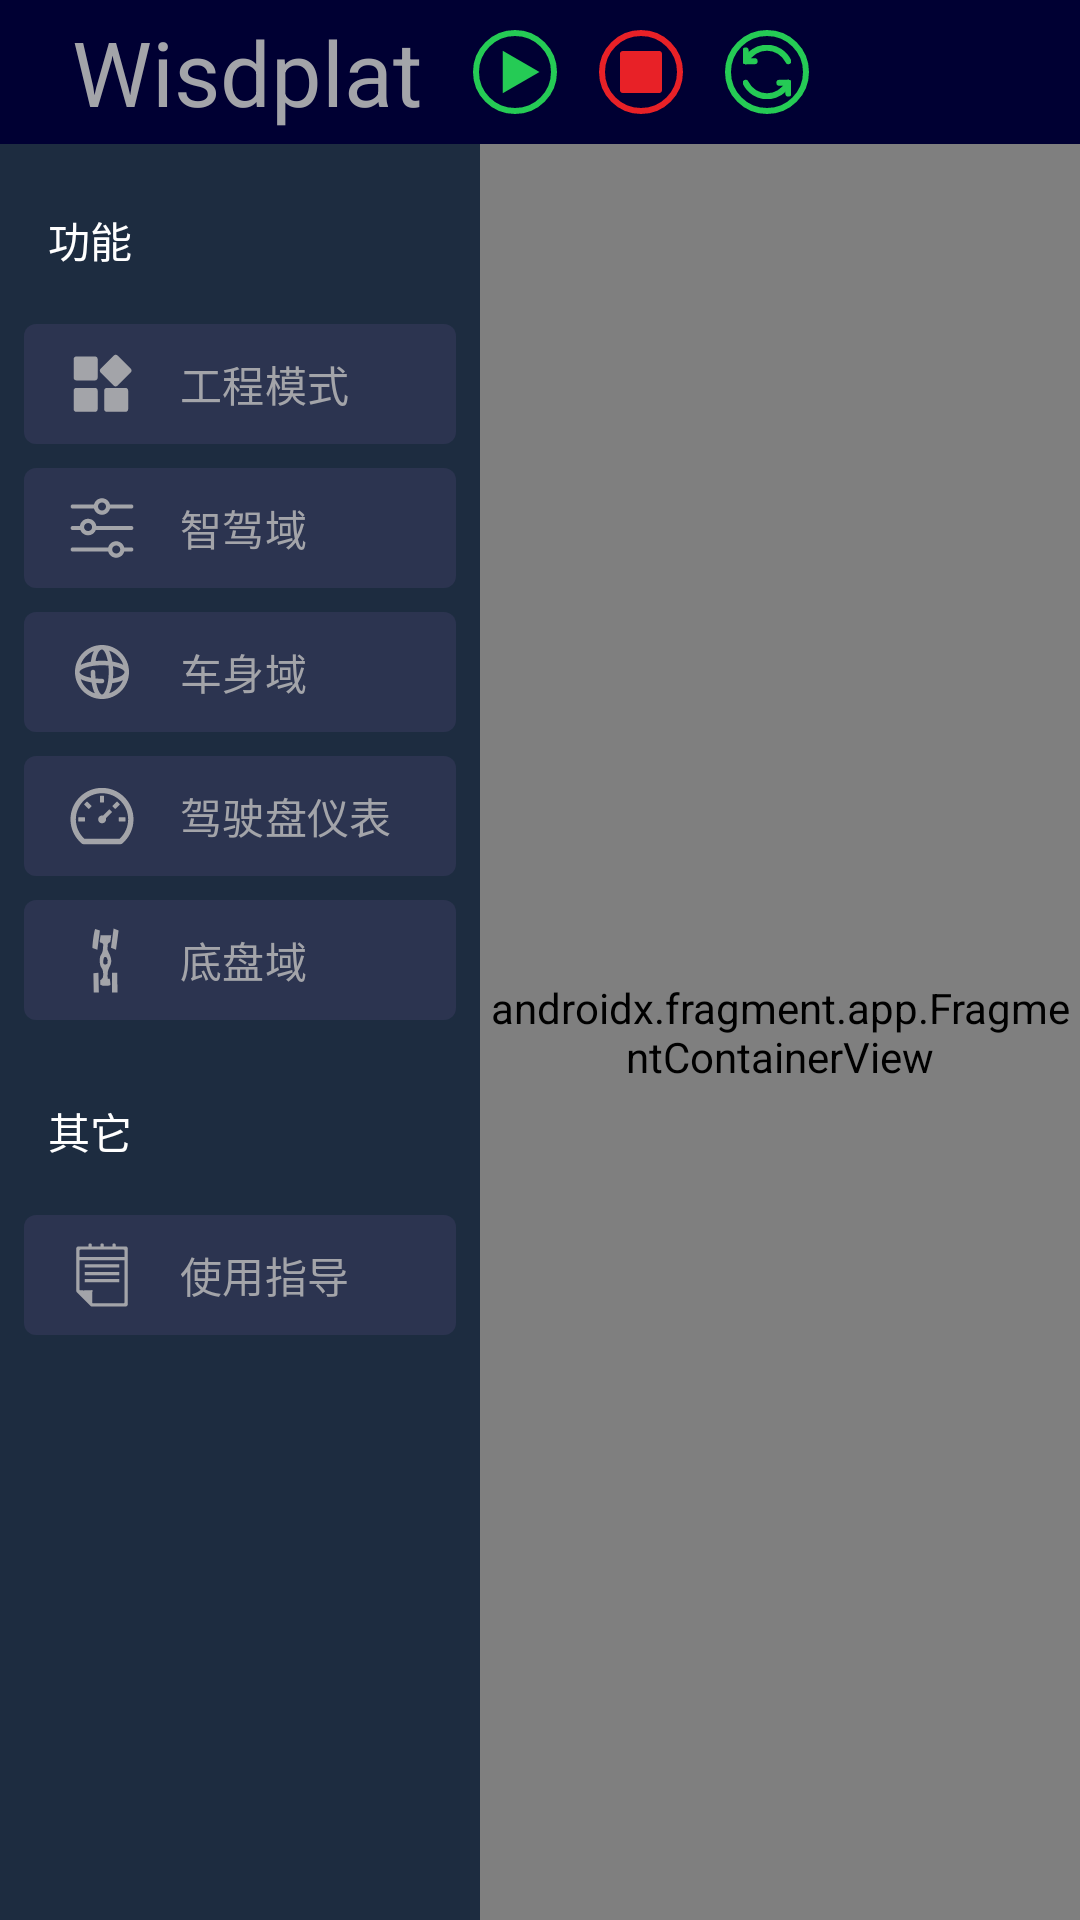

Screen size 1080x1920. Icon name, then its box in pixels as (x1,y1,x2,y2):
play: (473,30,557,114)
refresh: (725,30,809,114)
stop: (599,30,683,114)
